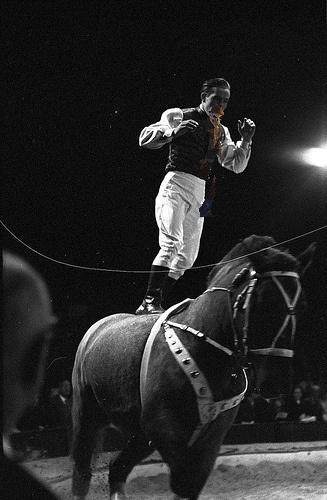tampered: (200, 103, 224, 217)
